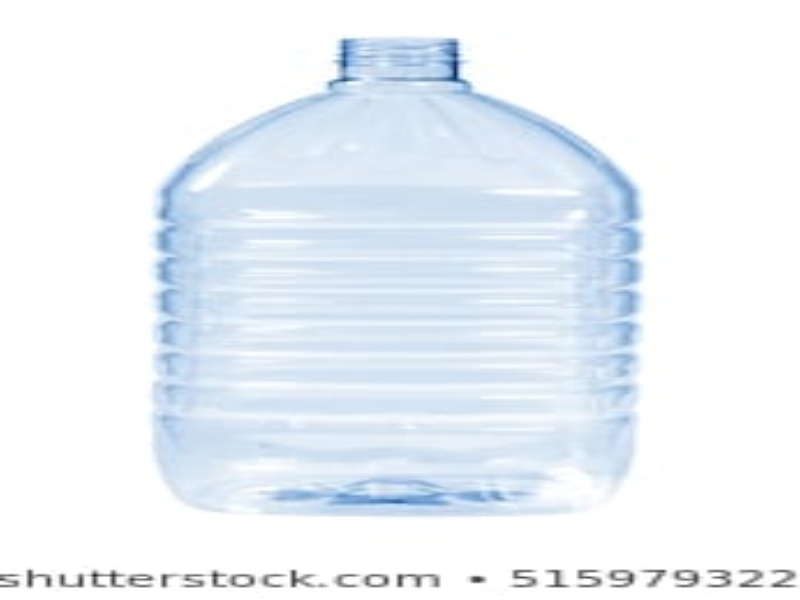plastic-bottle: (152, 33, 642, 517)
